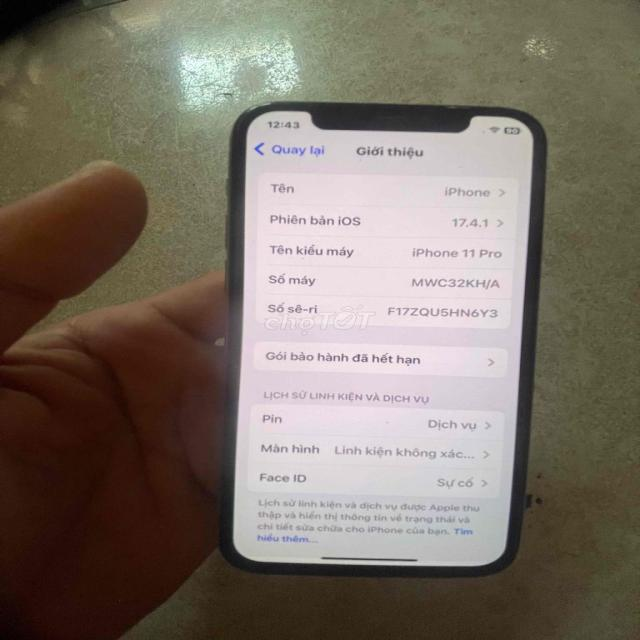gen_11: (212, 86, 554, 589)
